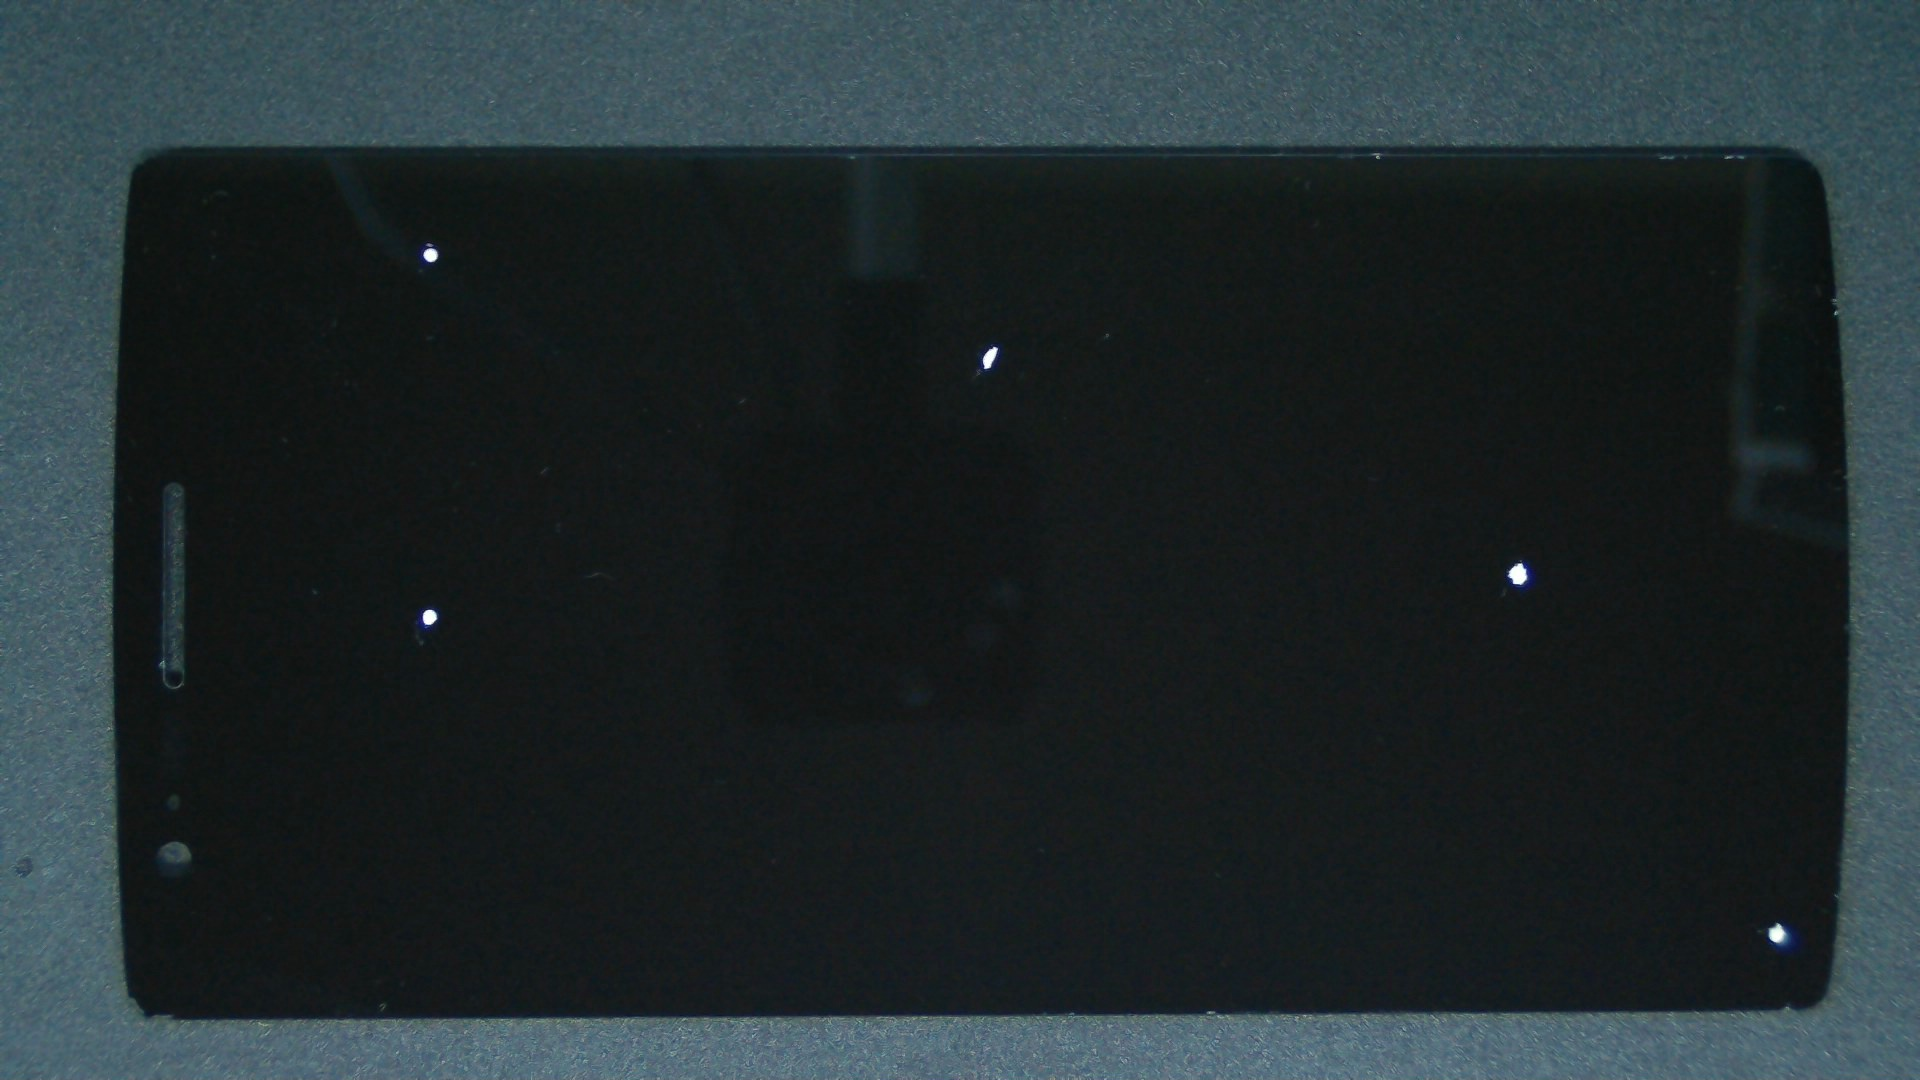oil: (764, 276, 1920, 847), (889, 459, 1920, 1080), (497, 171, 1489, 518), (215, 302, 637, 914), (216, 123, 646, 369)
